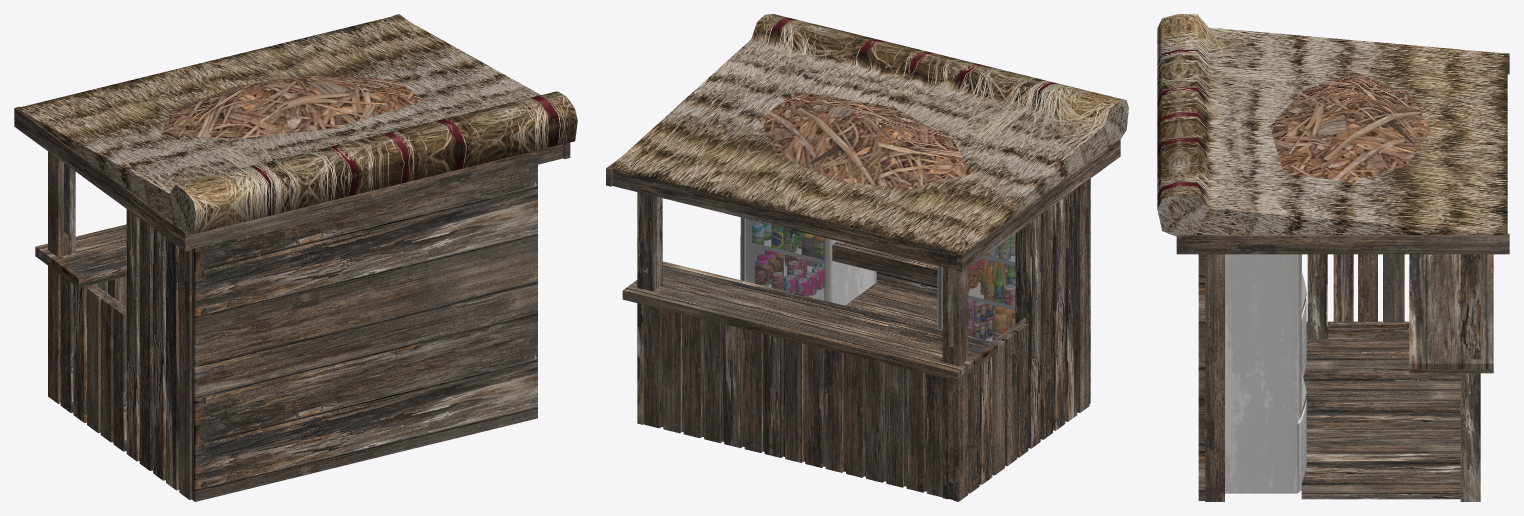
3 views of the same model, side by side, from view 1: azimuth 30°, elevation 25°; view 2: azimuth 150°, elevation 25°; view 3: azimuth 270°, elevation 25° (orthographic). The views are drawn at different scales.
Parts seen in each view (by area): view 1: Bar; view 2: Bar; view 3: Bar.
Boxes of the visible parts, x1,y1,x2,y2 form: Bar: (14,14,577,501); Bar: (606,14,1128,501); Bar: (1157,14,1509,501).
Bounding box in the file's own units: 3.54 × 2.86 × 2.88.
Materials: 7 (7 with a texture image).
